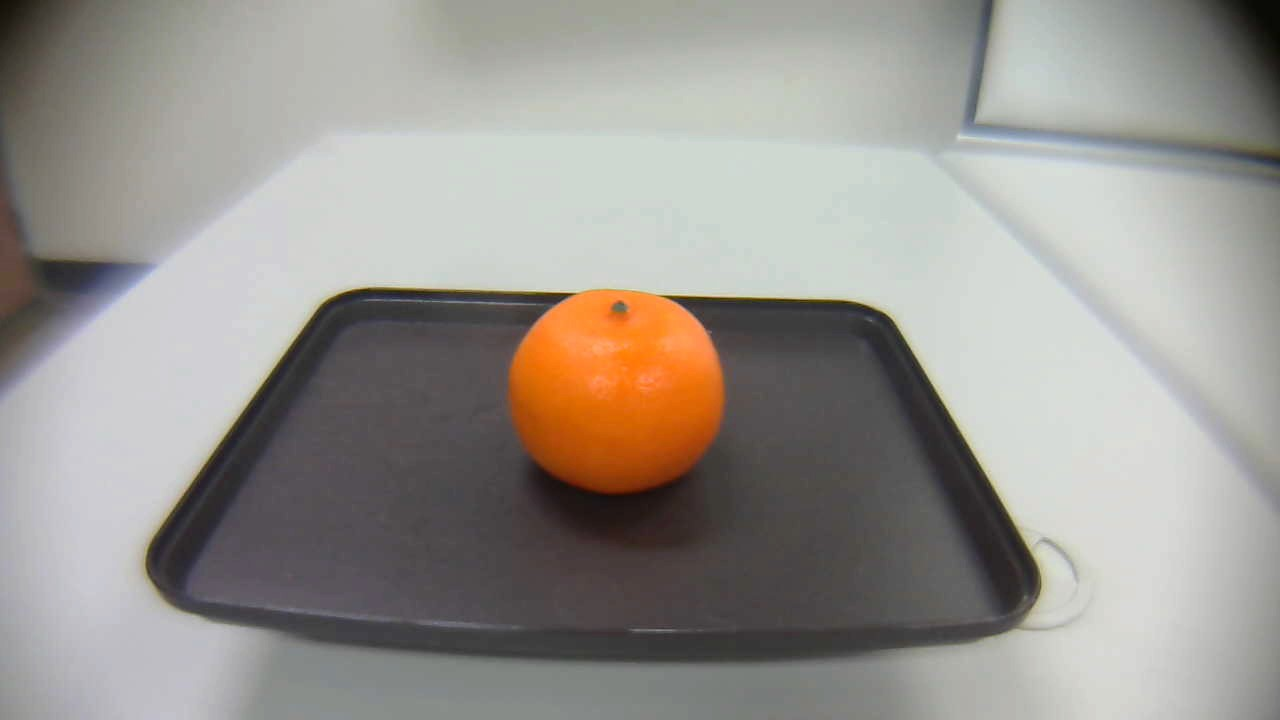orange: (497, 284, 730, 498)
